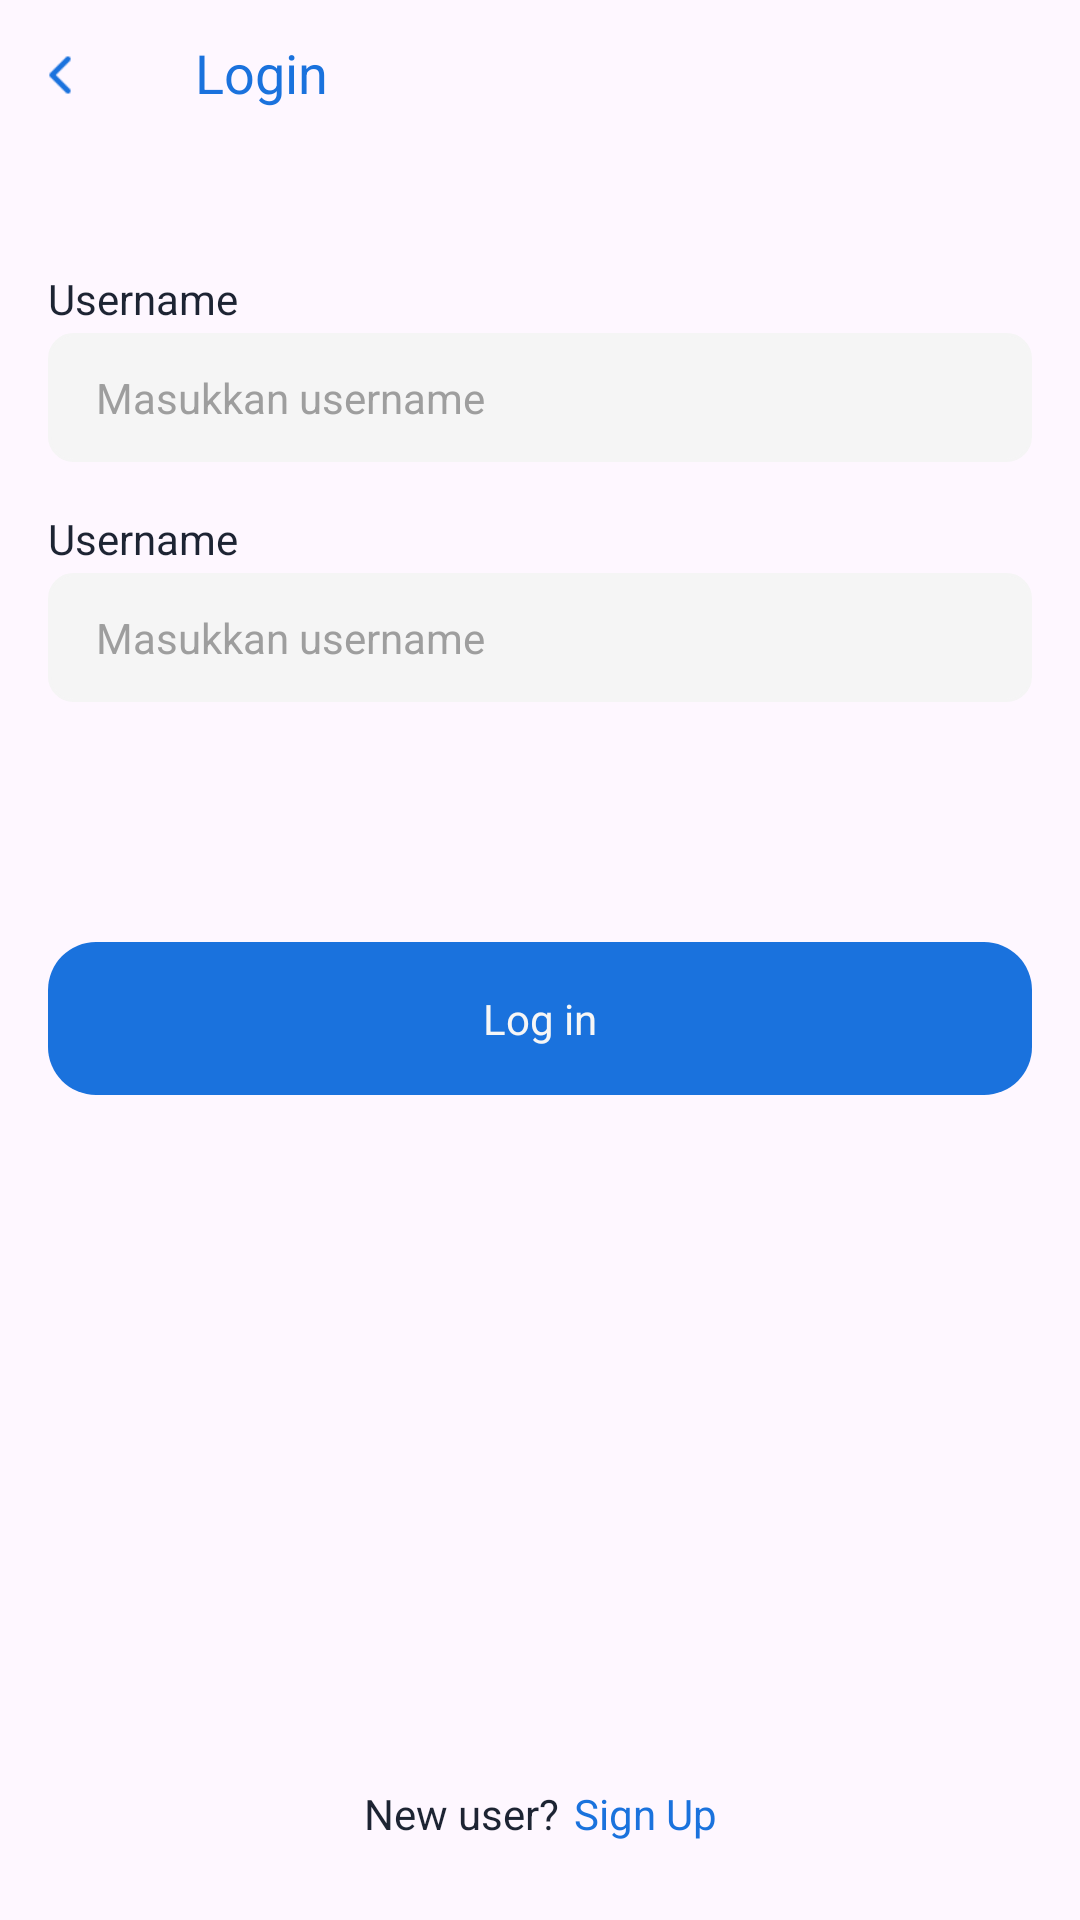

Icon click points for this 1080*1920 phone screenshot, format (x,y):
back: (60,75)
